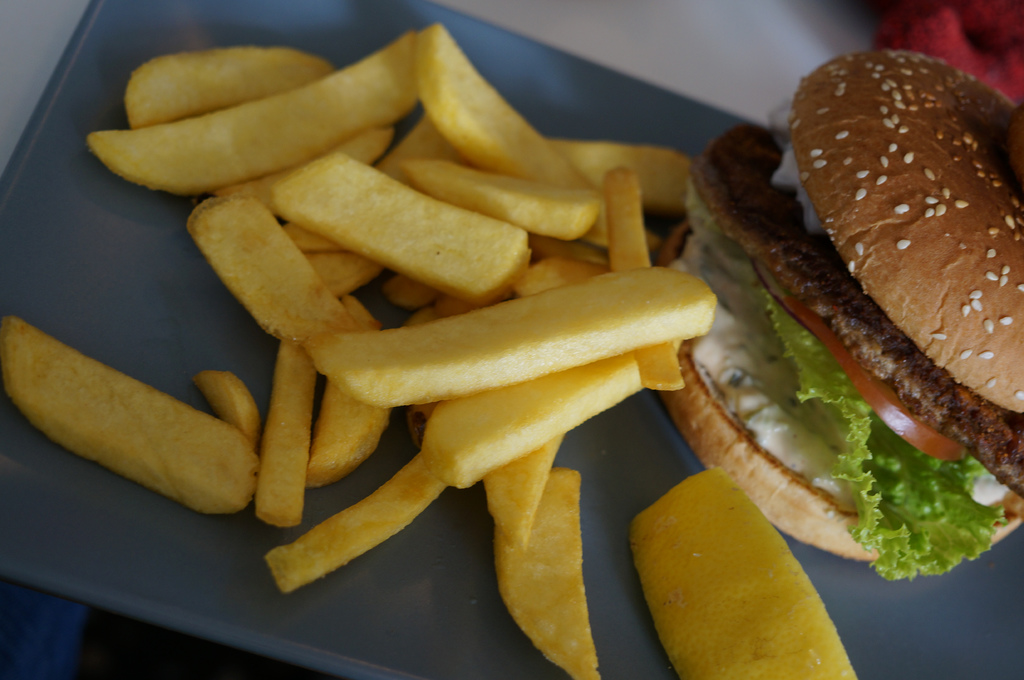French fries: (0, 9, 856, 679)
